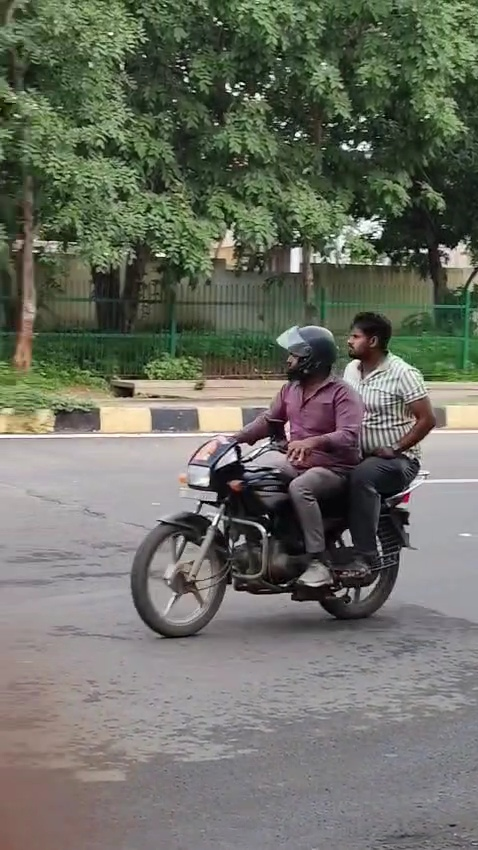BikeWithRider: (118, 304, 445, 643)
Helmet: (269, 318, 344, 387)
NoHelmet: (340, 307, 399, 367)
